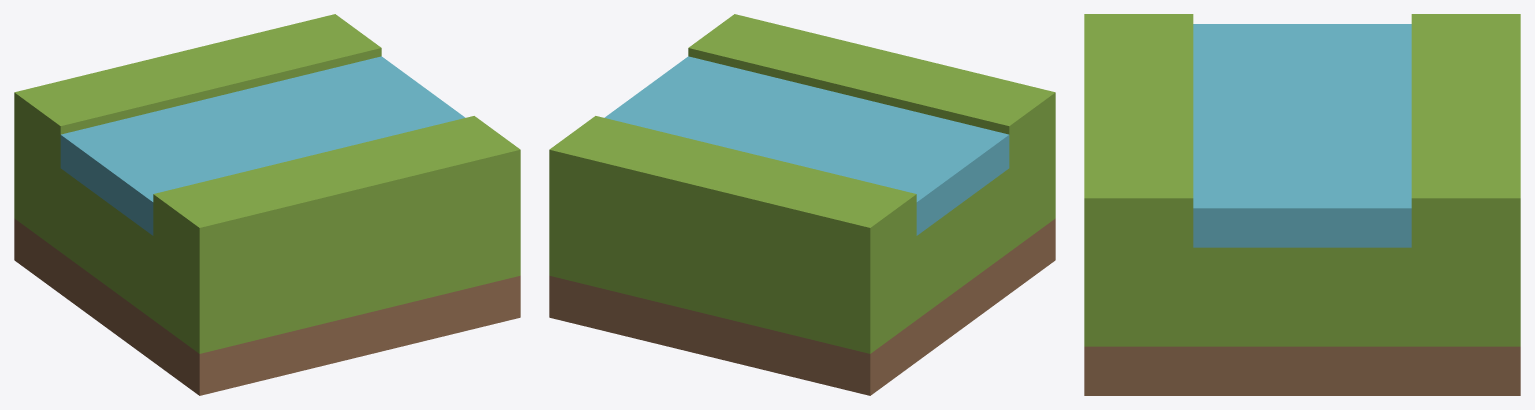
The model's file is river-straight-high.obj.
The picture shows the model from 3 angles, left to right: view 1: azimuth 30°, elevation 25°; view 2: azimuth 150°, elevation 25°; view 3: azimuth 270°, elevation 25°; orthographic projection. The views are drawn at different scales.
Visible parts, largest first — view 1: river-straight-high_Cube.561; view 2: river-straight-high_Cube.561; view 3: river-straight-high_Cube.561.
Part boxes in pixels (x1,y1,x2,y2): river-straight-high_Cube.561: (14,14,520,395); river-straight-high_Cube.561: (549,14,1055,395); river-straight-high_Cube.561: (1084,14,1520,395).
Size of the model in its own units: 8 by 4 by 8.
Materials: 1 (1 with a texture image).
